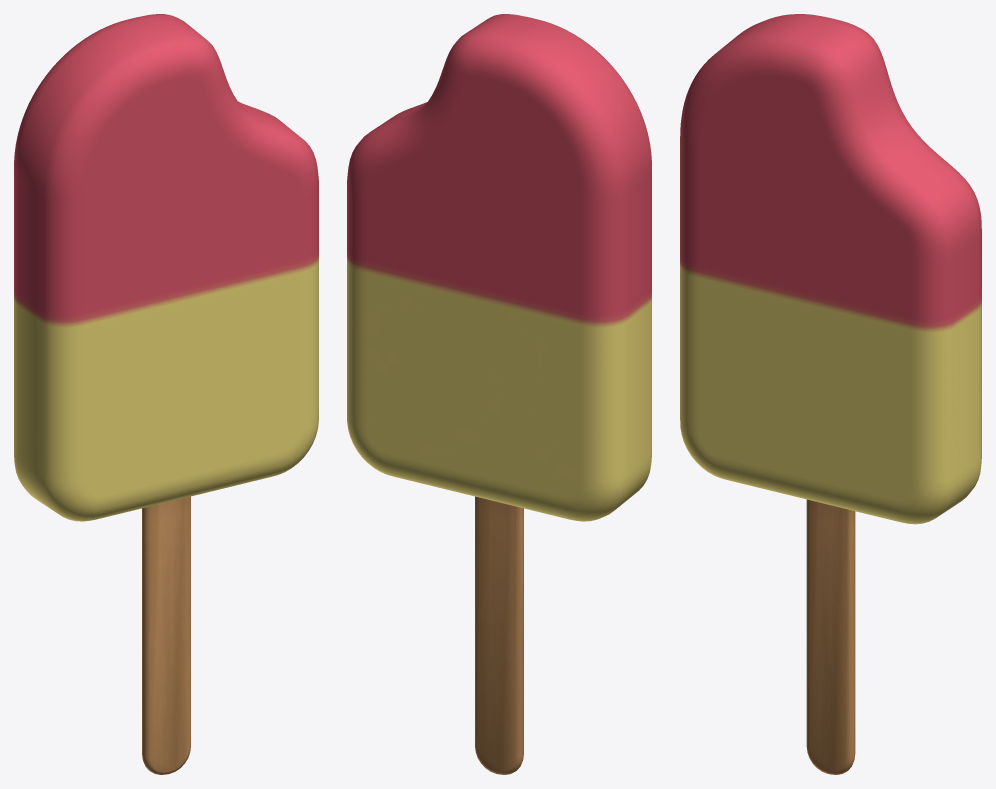
The model's file is polo.glb.
3 renders of one model, left to right at view 1: azimuth 30°, elevation 25°; view 2: azimuth 150°, elevation 25°; view 3: azimuth 330°, elevation 25°, orthographic.
Parts seen in each view (by area): view 1: popsicle_body; view 2: popsicle_body; view 3: popsicle_body.
Part boxes in pixels (x1,y1,x2,y2): popsicle_body: (14,14,318,774); popsicle_body: (347,14,651,774); popsicle_body: (680,14,981,774).
Bounding box in the file's own units: 0.056 × 0.145 × 0.018.
1 material, 1 textured.
